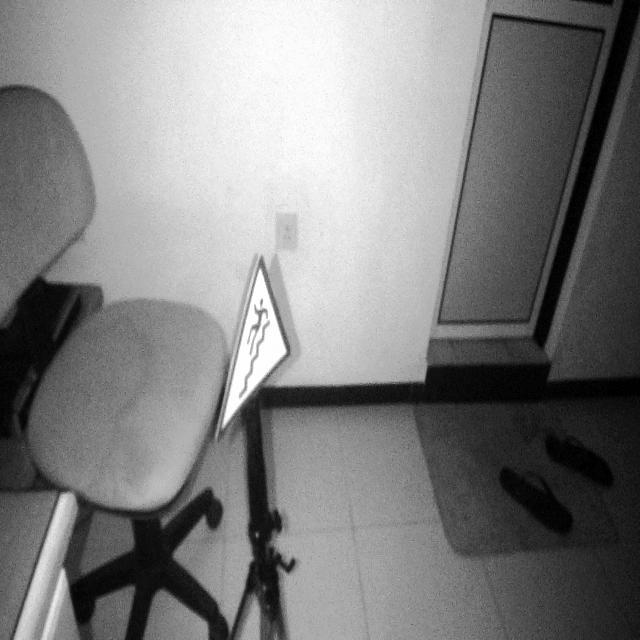Sign: (214, 251, 292, 449)
